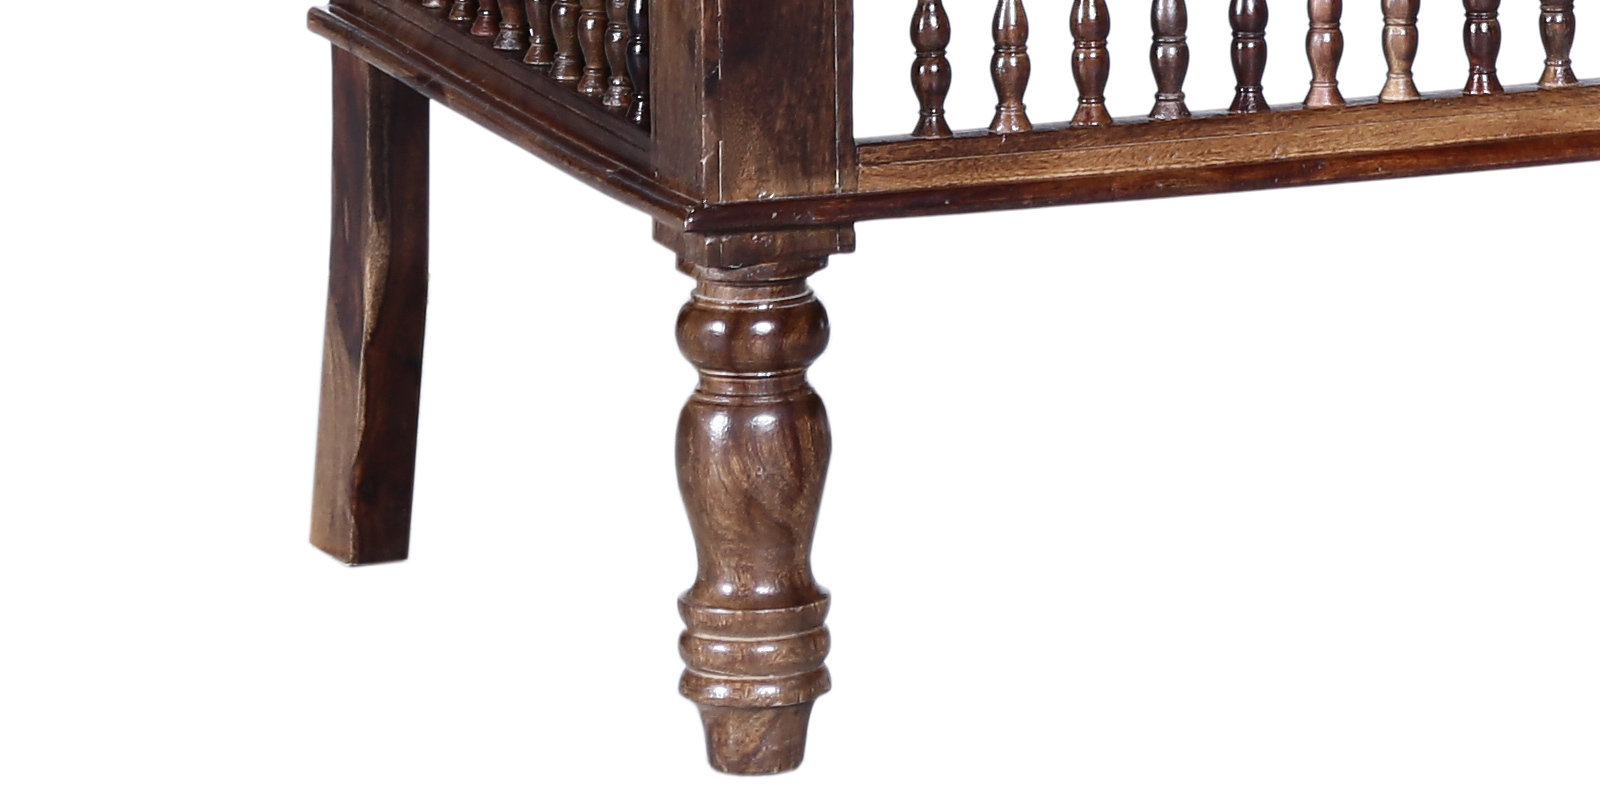Maurya Handcrafted Three Seater Sofa in Provincial Teak Finish by Mudramark: (307, 1, 1600, 778)
